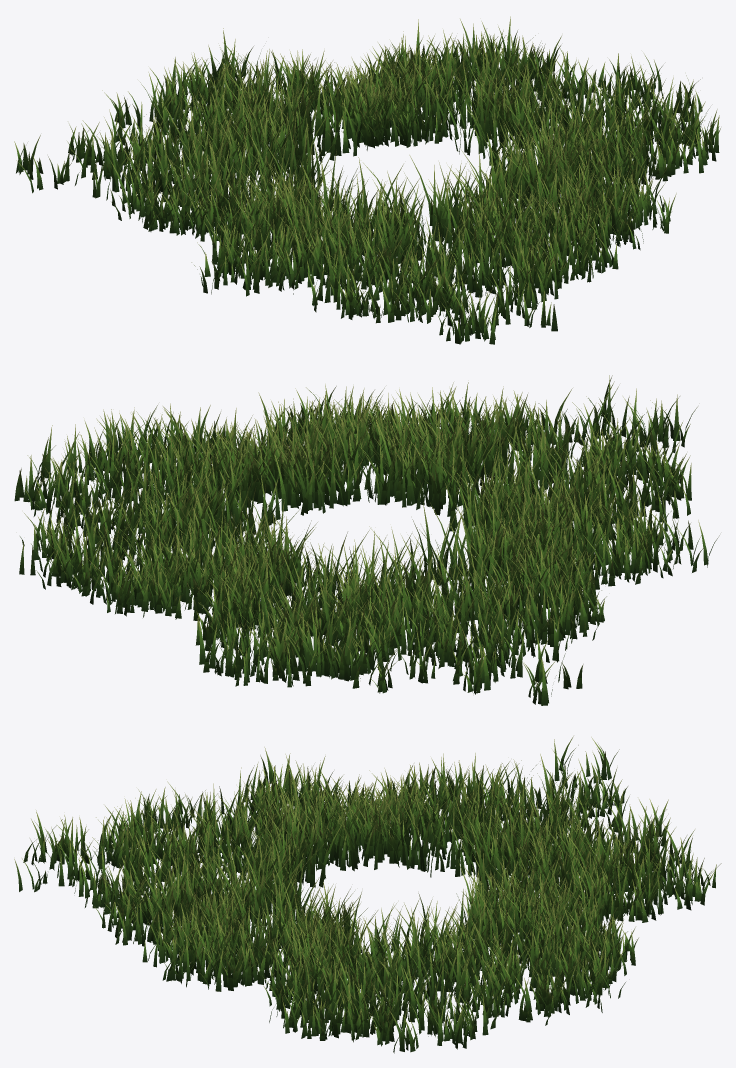
Rendered from Tree_Grass.fbx.
3 views of the same model, one above another, from view 1: azimuth 30°, elevation 25°; view 2: azimuth 150°, elevation 25°; view 3: azimuth 270°, elevation 25° (orthographic). The views are drawn at different scales.
Visible parts, largest first — view 1: Tree_Grass; view 2: Tree_Grass; view 3: Tree_Grass.
Boxes of the visible parts, x1,y1,x2,y2 form: Tree_Grass: (14,16,720,344); Tree_Grass: (14,375,719,705); Tree_Grass: (14,736,721,1053).
Bounding box in the file's own units: 2.76 × 0.2935 × 2.85.
